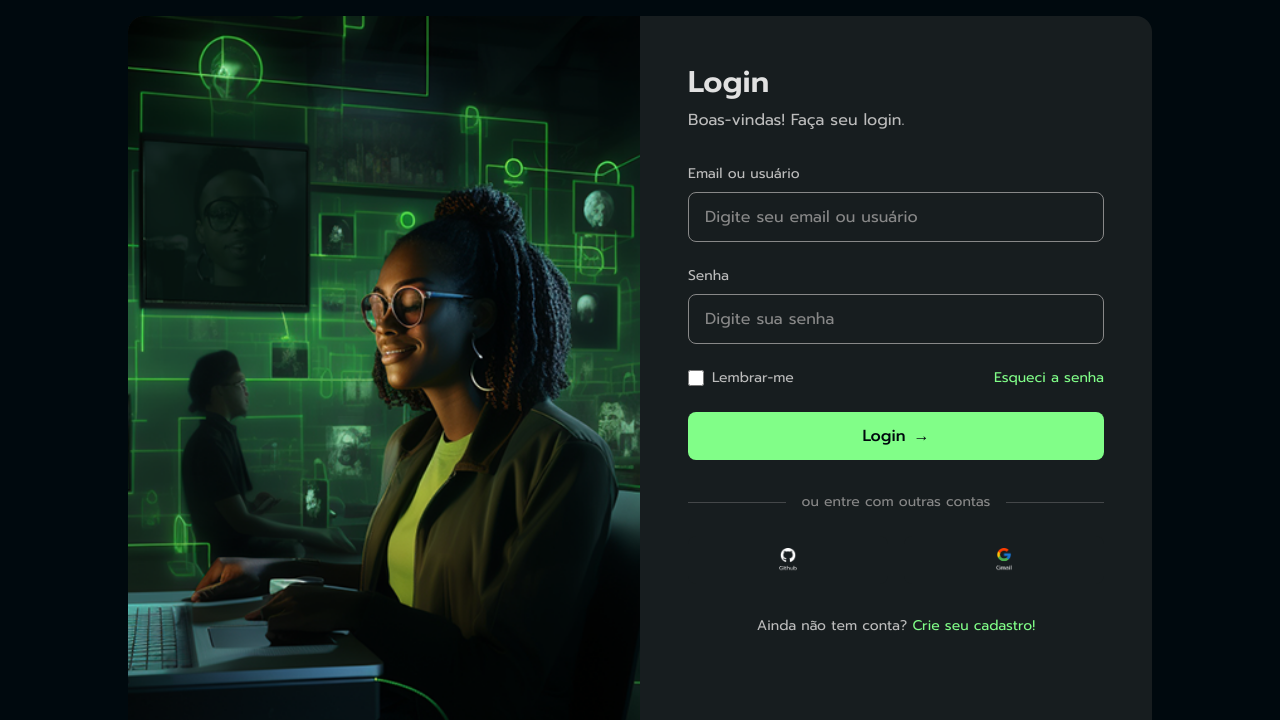
Test case: LoginPage › disables the submit button while the request is pending
In the field labelled "Email ou usuário": {"x": 896, "y": 217} [688, 192, 1104, 242], type "ana@code.com"
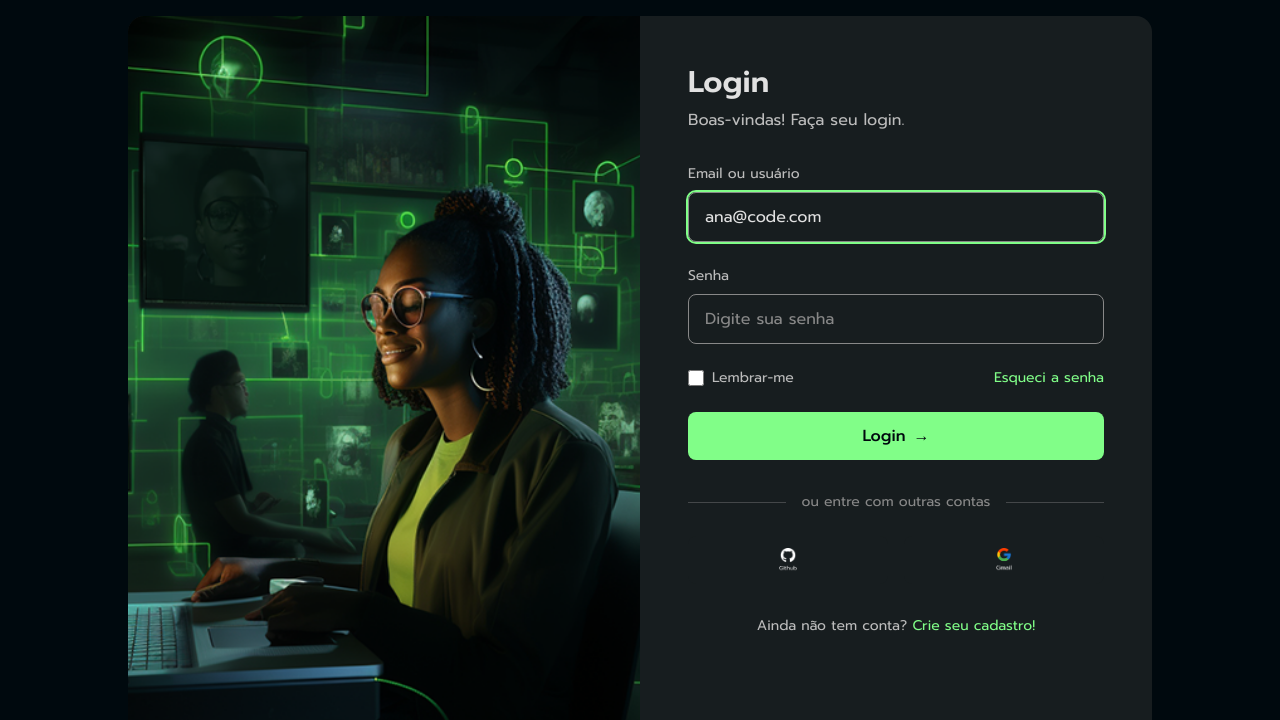
In the password field labelled "Senha": {"x": 896, "y": 319} [688, 294, 1104, 344], type "segredo123"
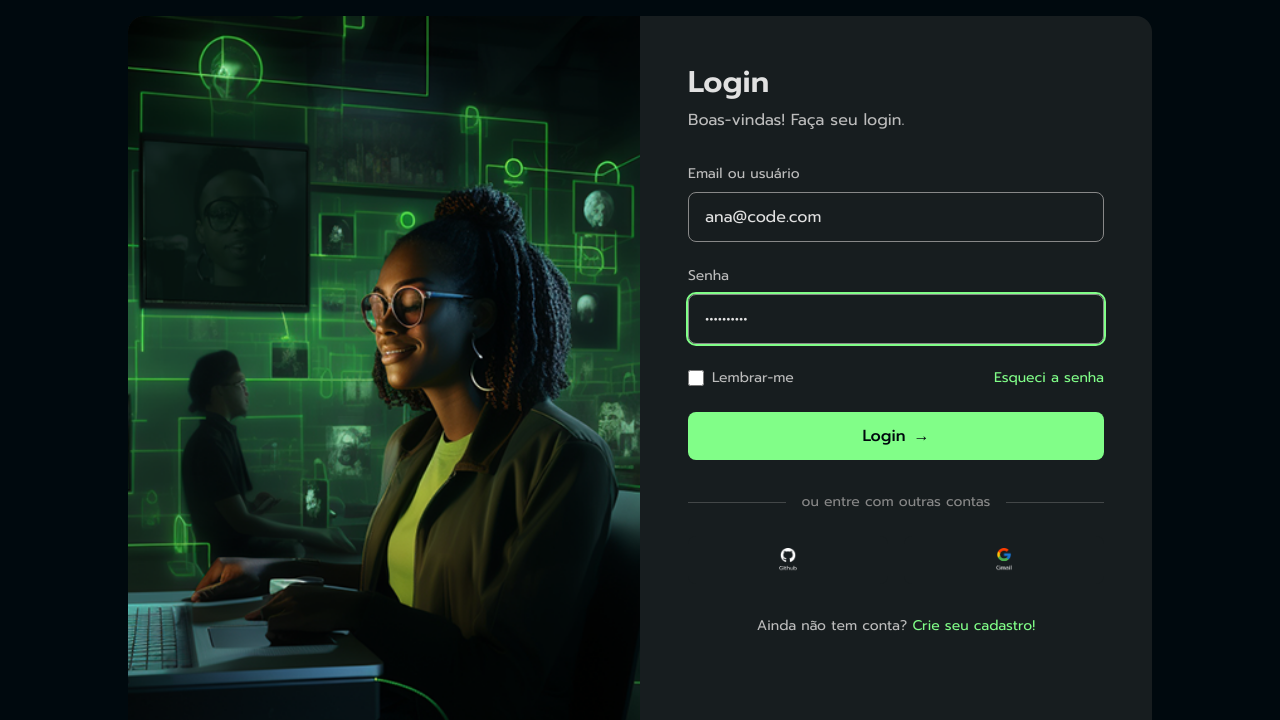
Click the checkbox labelled "Lembrar-me": {"x": 696, "y": 378} [688, 370, 704, 386]
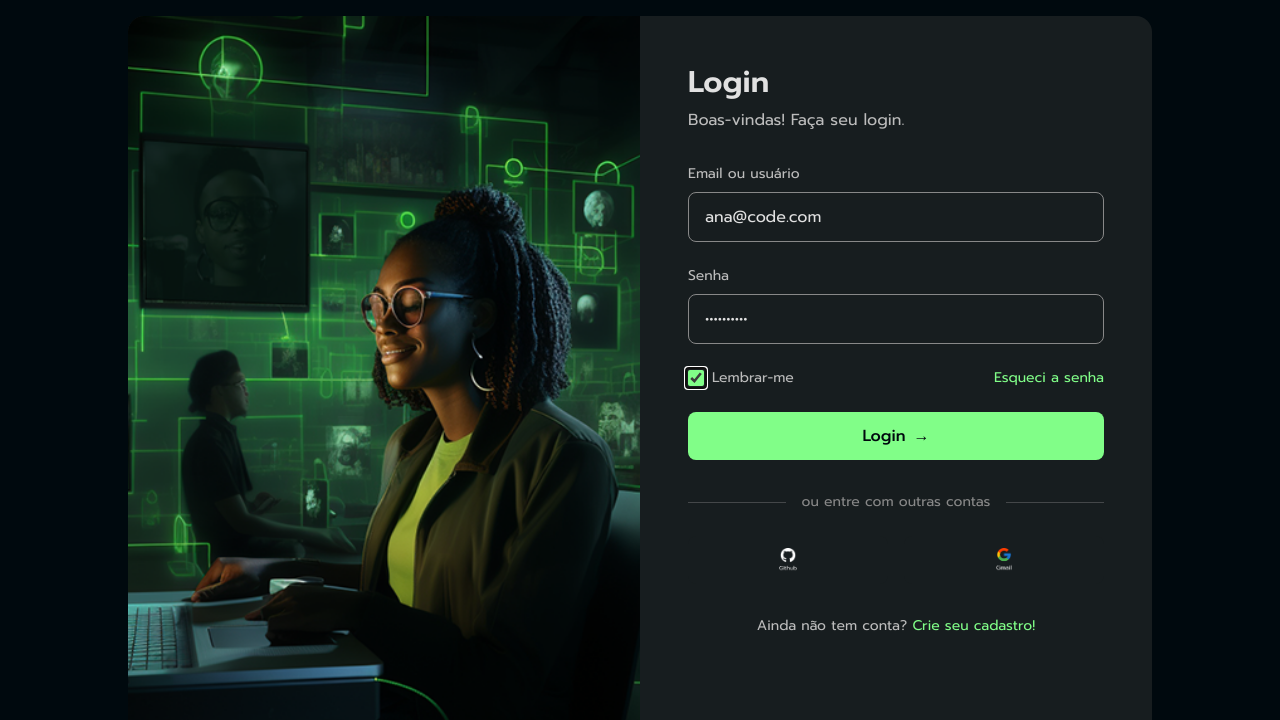
Click the button "Login →": {"x": 896, "y": 436} [688, 412, 1104, 460]
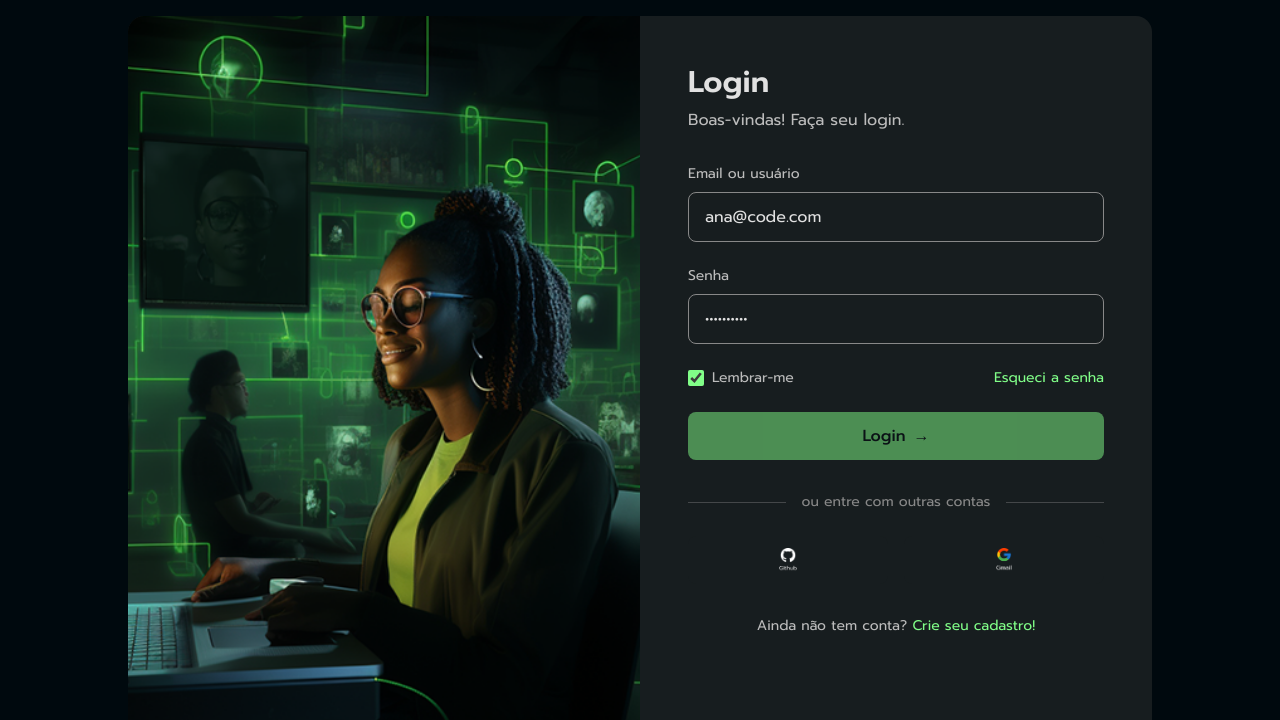
Result: the button "Login →" is disabled at [688, 412, 1104, 460]
